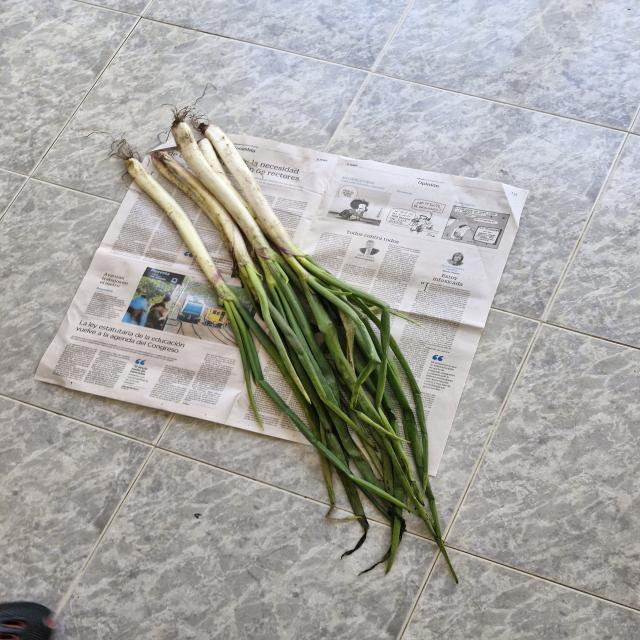green_onion: (108, 105, 442, 548)
